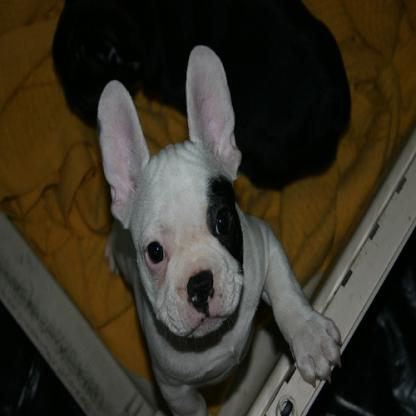French_bulldog: (96, 44, 343, 414)
